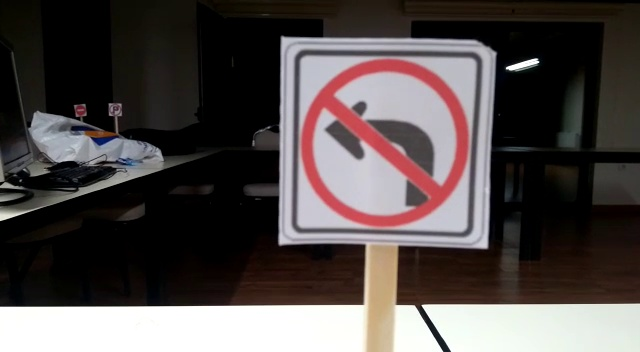sola_donulmez: (278, 47, 488, 241)
